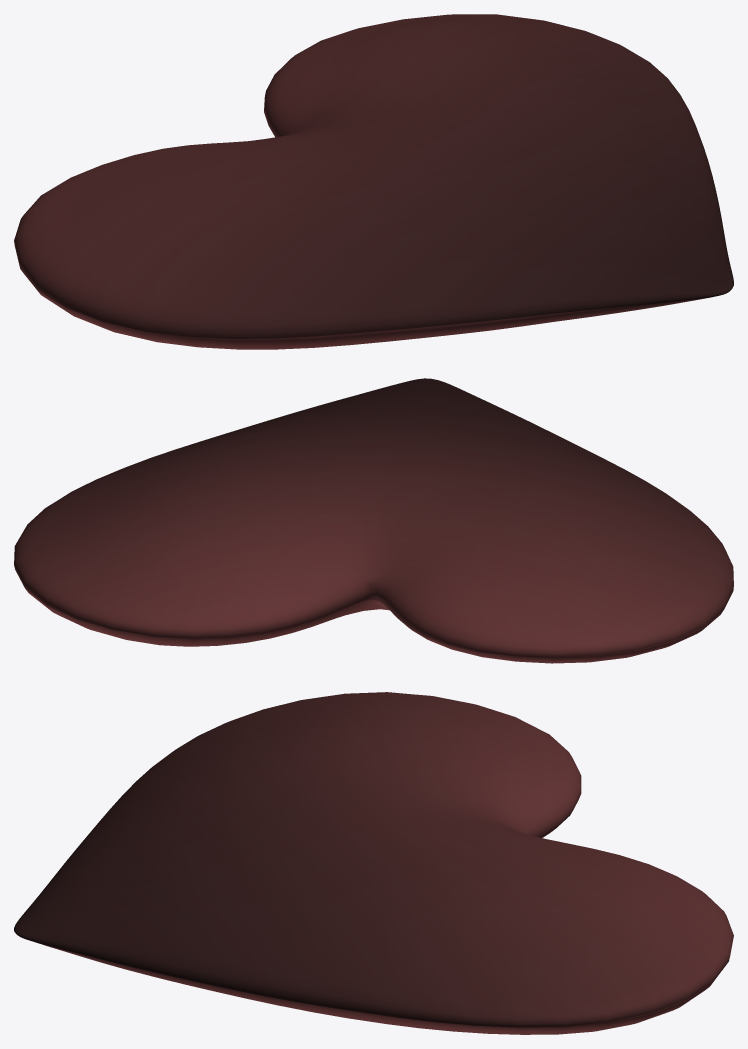
The model's file is heart.glb.
The picture shows the model from 3 angles, top to bottom: view 1: azimuth 30°, elevation 25°; view 2: azimuth 150°, elevation 25°; view 3: azimuth 270°, elevation 25°; orthographic projection. The views are drawn at different scales.
Visible parts, largest first — view 1: cc_t_heart4; view 2: cc_t_heart4; view 3: cc_t_heart4.
Boxes of the visible parts, x1,y1,x2,y2 form: cc_t_heart4: (14,14,733,349); cc_t_heart4: (14,378,733,663); cc_t_heart4: (14,692,733,1034).
Bounding box in the file's own units: 0.1232 × 0.0247 × 0.1149.
1 material, 1 textured.
